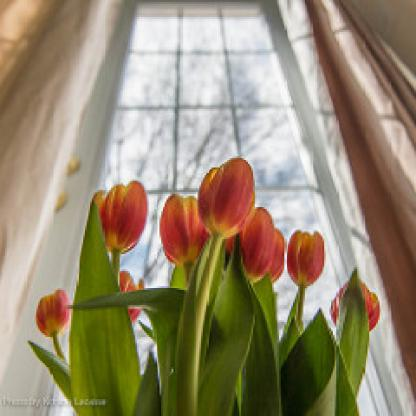TULIP: (34, 150, 400, 406)
